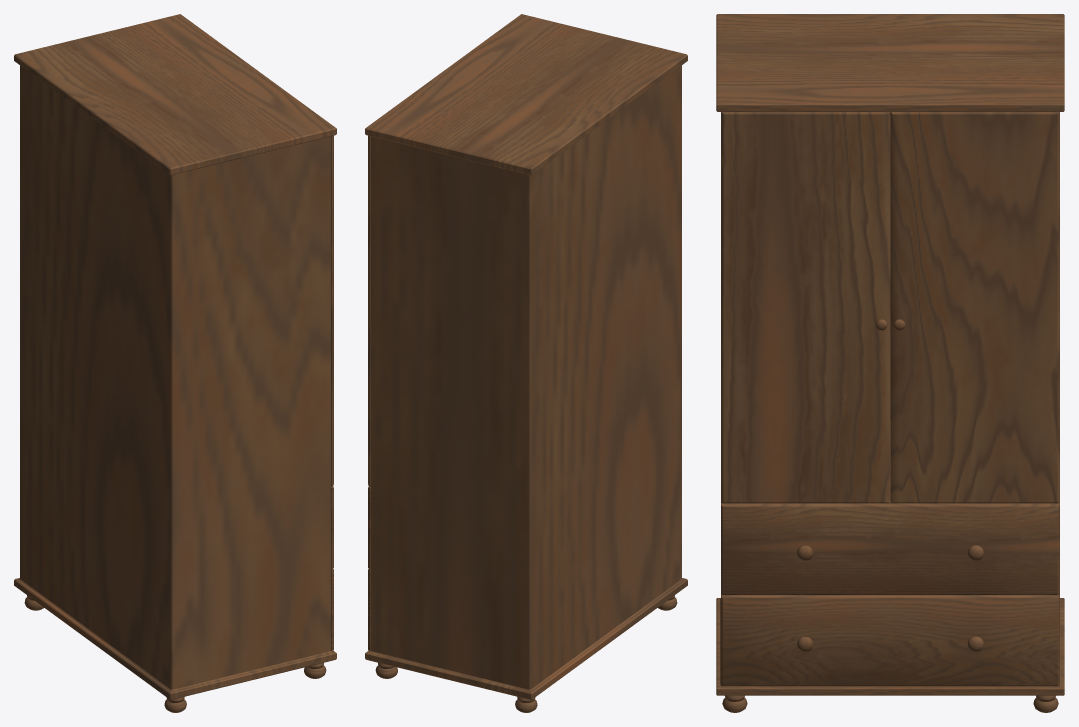
The model's file is wardrobe1.glb.
3 views of the same model, side by side, from view 1: azimuth 30°, elevation 25°; view 2: azimuth 150°, elevation 25°; view 3: azimuth 270°, elevation 25° (orthographic). The views are drawn at different scales.
Visible parts, largest first — view 1: Cube.037; view 2: Cube.037; view 3: Cube.037.
Boxes of the visible parts, box(x1,y1,x2,y2) form: Cube.037: box(14, 14, 336, 712); Cube.037: box(365, 14, 687, 712); Cube.037: box(716, 14, 1064, 712).
Size of the model in its own units: 0.6728 by 1.99 by 1.02.
1 material, 1 textured.
